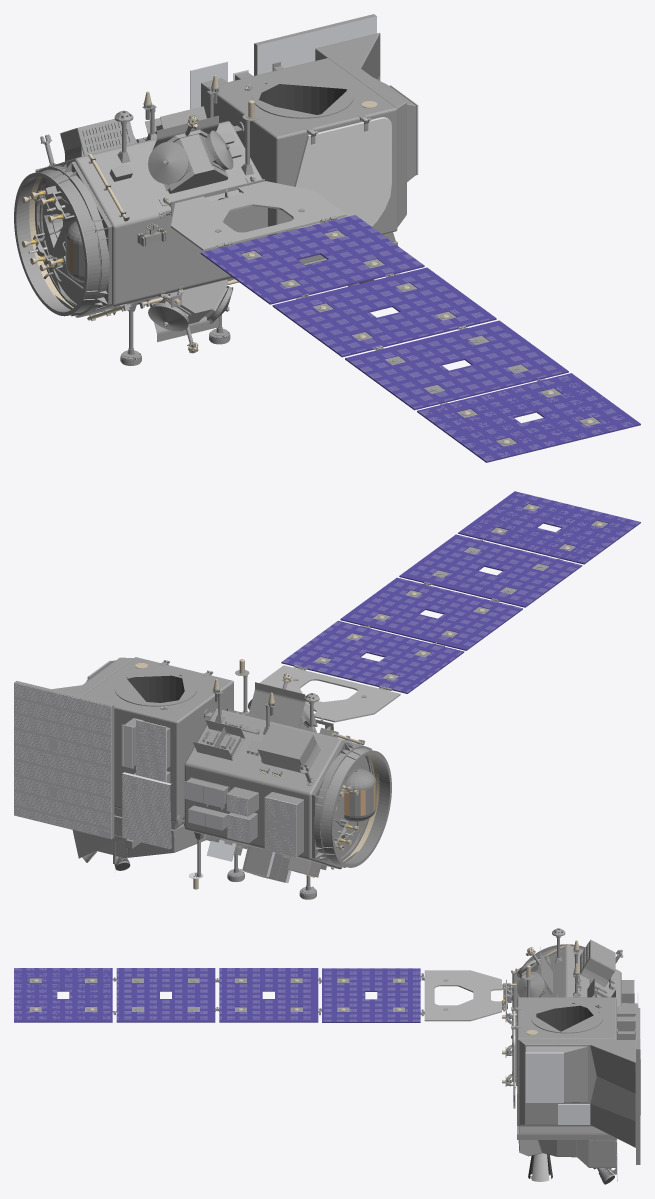
File: icesat2.glb
The picture shows the model from 3 angles, top to bottom: view 1: azimuth 30°, elevation 25°; view 2: azimuth 150°, elevation 25°; view 3: azimuth 270°, elevation 25°; orthographic projection. The views are drawn at different scales.
Parts seen in each view (by area): view 1: MainBus; view 2: MainBus; view 3: MainBus.
Part boxes in pixels (box(x1,y1,x2,y2)): MainBus: box(14, 14, 640, 462); MainBus: box(14, 491, 640, 899); MainBus: box(14, 928, 640, 1184).
Size of the model in its own units: 3.74 by 2.38 by 7.56.
